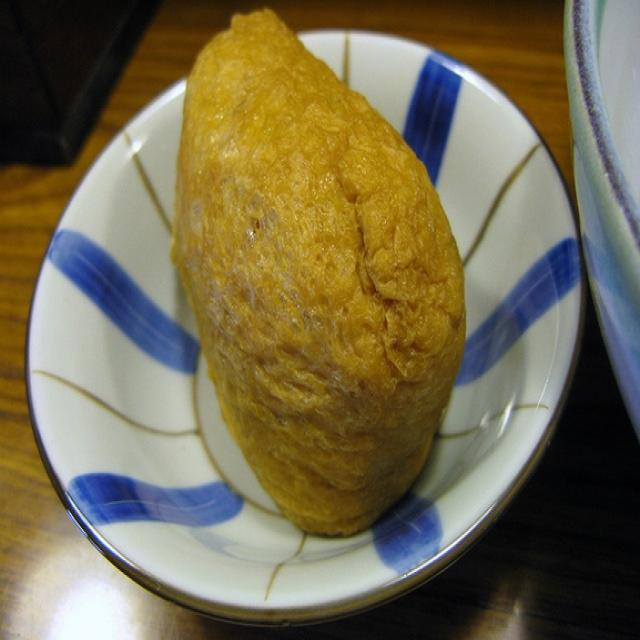寿司卷物: (132, 10, 484, 562)
